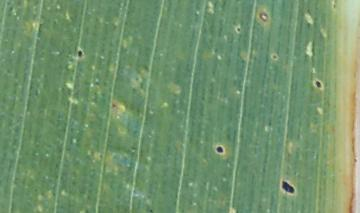tarspot: (281, 179, 295, 194), (259, 11, 269, 23), (215, 145, 224, 154), (314, 80, 322, 89), (77, 49, 84, 58), (235, 26, 241, 33), (272, 54, 278, 60), (112, 103, 117, 109), (149, 209, 153, 213)
